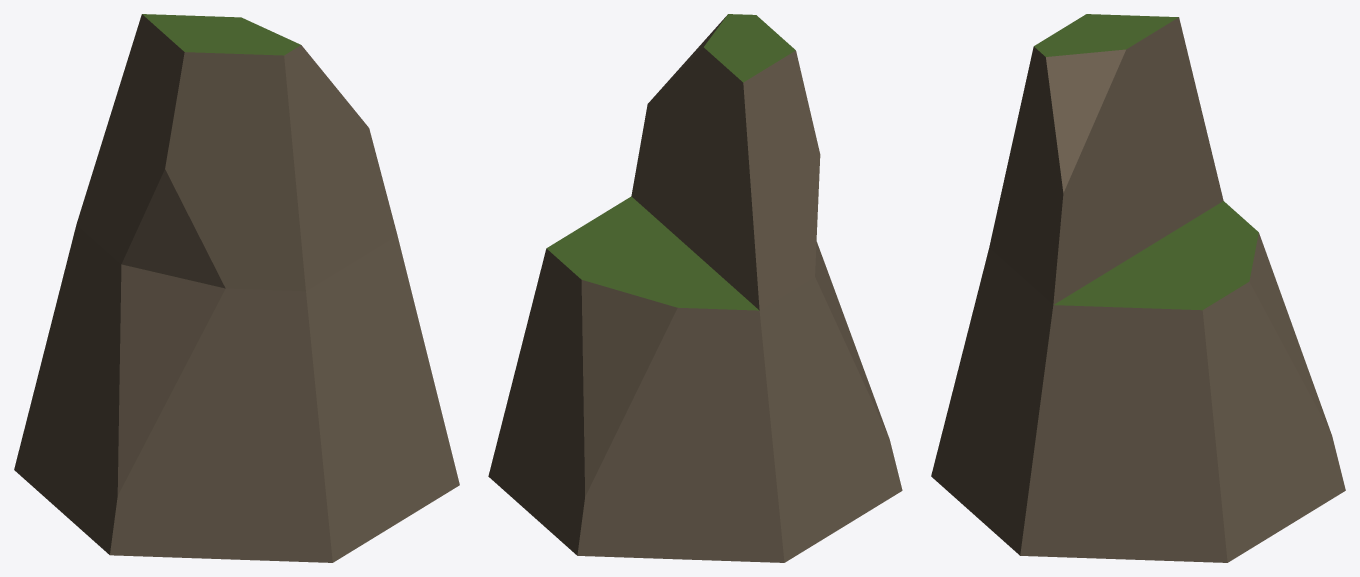
Rendered from rock_tall_j.glb.
The picture shows the model from 3 angles, left to right: view 1: azimuth 30°, elevation 25°; view 2: azimuth 150°, elevation 25°; view 3: azimuth 270°, elevation 25°; orthographic projection. The views are drawn at different scales.
Parts seen in each view (by area): view 1: rock_tallJ; view 2: rock_tallJ; view 3: rock_tallJ.
Part boxes in pixels (left/top/right/bottom): rock_tallJ: left=14, top=14, right=459, bottom=562; rock_tallJ: left=488, top=14, right=902, bottom=562; rock_tallJ: left=931, top=14, right=1345, bottom=562.
Bounding box in the file's own units: 0.4879 × 0.62 × 0.5382.
